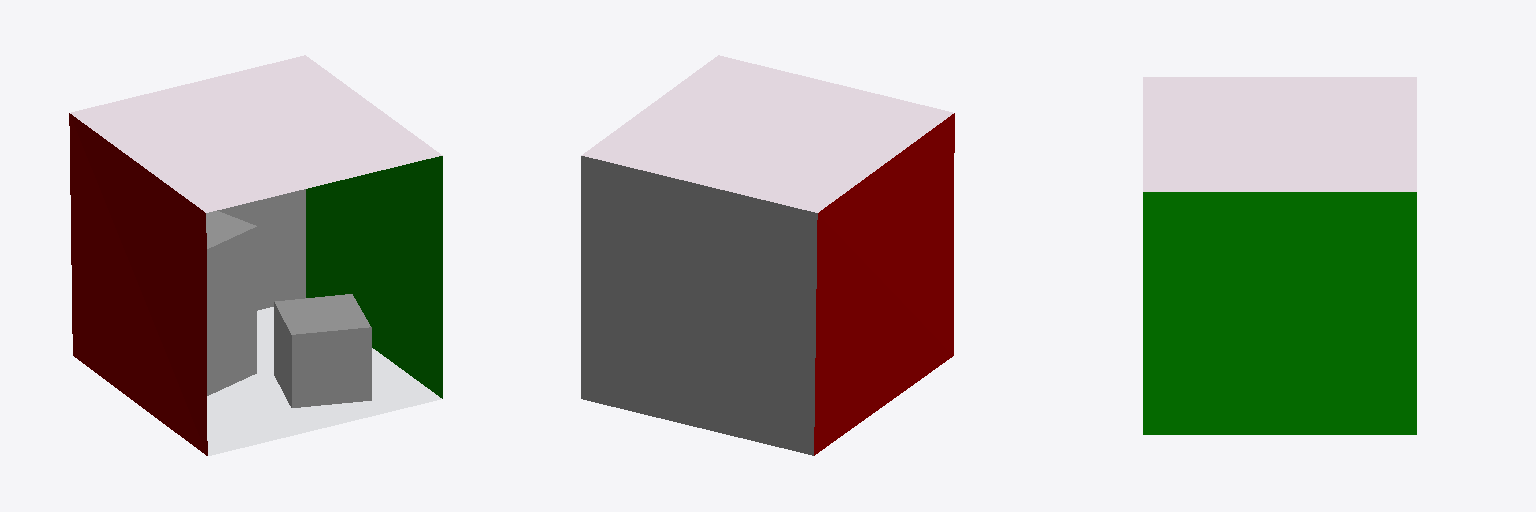
The model's file is cornell.obj.
The picture shows the model from 3 angles: view 1: azimuth 30°, elevation 25°; view 2: azimuth 150°, elevation 25°; view 3: azimuth 270°, elevation 25°; orthographic projection.
Visible parts, largest first — view 1: cornell; view 2: cornell; view 3: cornell.
Boxes of the visible parts, x1=… form: cornell: x1=69, y1=55, x2=442, y2=455; cornell: x1=581, y1=55, x2=954, y2=455; cornell: x1=1143, y1=77, x2=1416, y2=434.
Bounding box in the file's own units: 2.02 × 1.99 × 2.03.